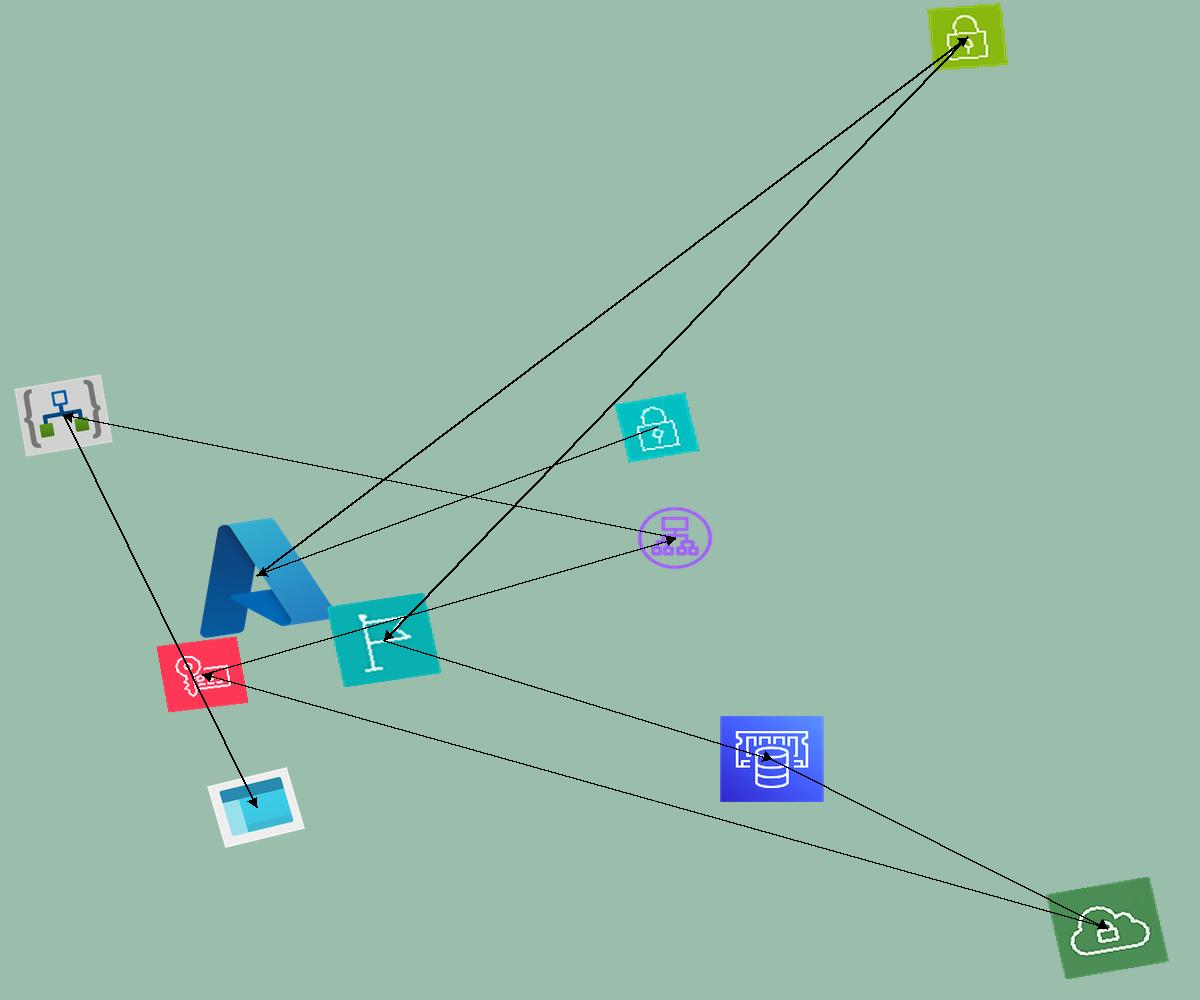AWS-ElastiCache: (719, 715, 825, 803)
AWS-Key-Management-Service: (156, 636, 249, 713)
AWS-Private-subnet: (614, 392, 700, 463)
AWS-Private_vpc: (1045, 876, 1170, 980)
AWS-Public-subnet: (927, 3, 1008, 71)
AWS-Region: (326, 592, 442, 688)
AWS-Res_Elastic-Load-Balancing_Application-Load-Balancer: (633, 503, 717, 573)
Azure_integration-204-Logic-Apps: (14, 374, 113, 457)
Azure_management-portal: (207, 767, 305, 848)
Azure_services: (170, 502, 345, 648)
